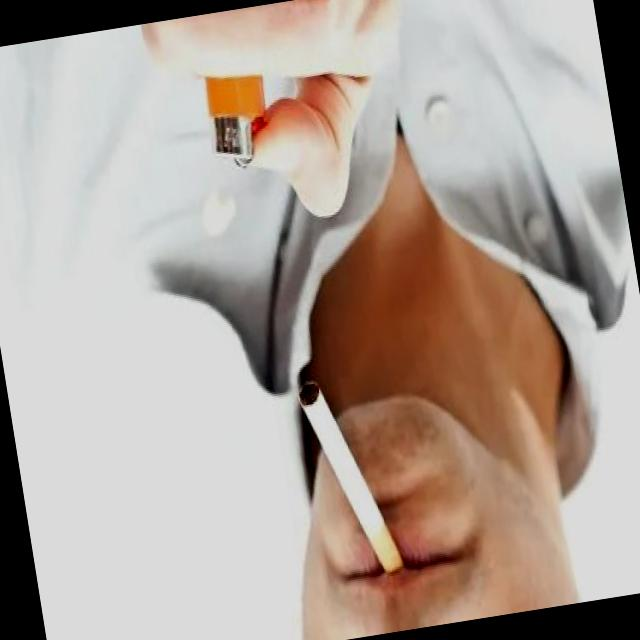smoke: (290, 372, 408, 587)
